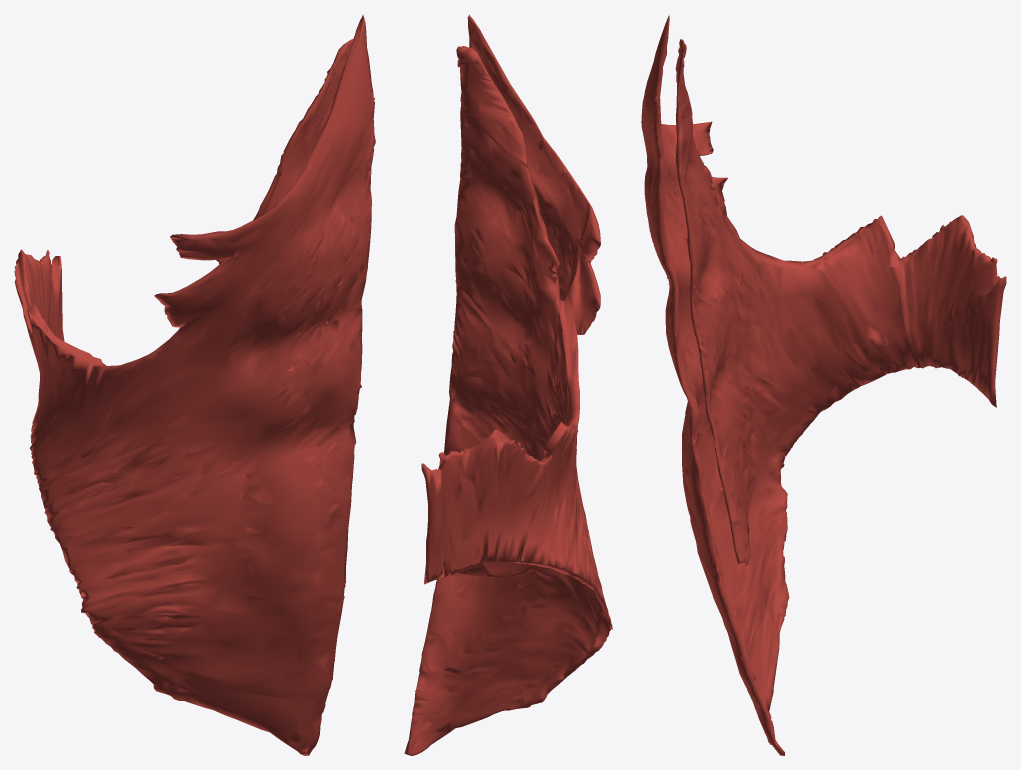
File: musculos-internal-abdominal-oblique-muscle-r.glb
The picture shows the model from 3 angles, left to right: view 1: azimuth 30°, elevation 25°; view 2: azimuth 150°, elevation 25°; view 3: azimuth 270°, elevation 25°; orthographic projection. The views are drawn at different scales.
Visible parts, largest first — view 1: Internal abdominal oblique muscle.r; view 2: Internal abdominal oblique muscle.r; view 3: Internal abdominal oblique muscle.r.
Boxes of the visible parts, x1=… form: Internal abdominal oblique muscle.r: x1=14, y1=14, x2=375, y2=755; Internal abdominal oblique muscle.r: x1=404, y1=14, x2=612, y2=755; Internal abdominal oblique muscle.r: x1=641, y1=14, x2=1006, y2=755.
Size of the model in its own units: 0.1245 by 0.3917 by 0.1754.
